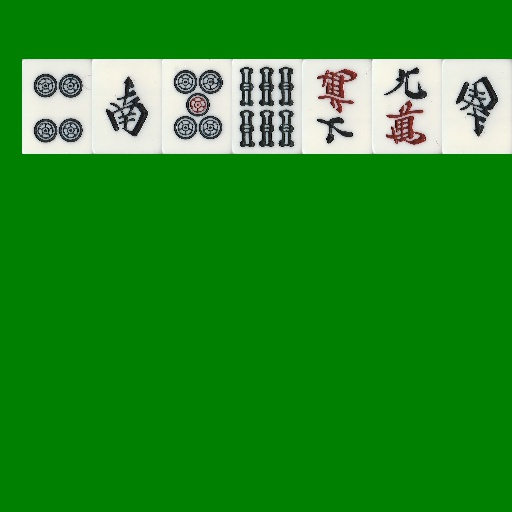4p: (22, 59, 92, 154)
5p: (162, 59, 232, 154)
6s: (232, 59, 302, 154)
7m: (302, 59, 372, 154)
9m: (372, 59, 442, 154)
south: (92, 59, 162, 154), (442, 59, 512, 154)
